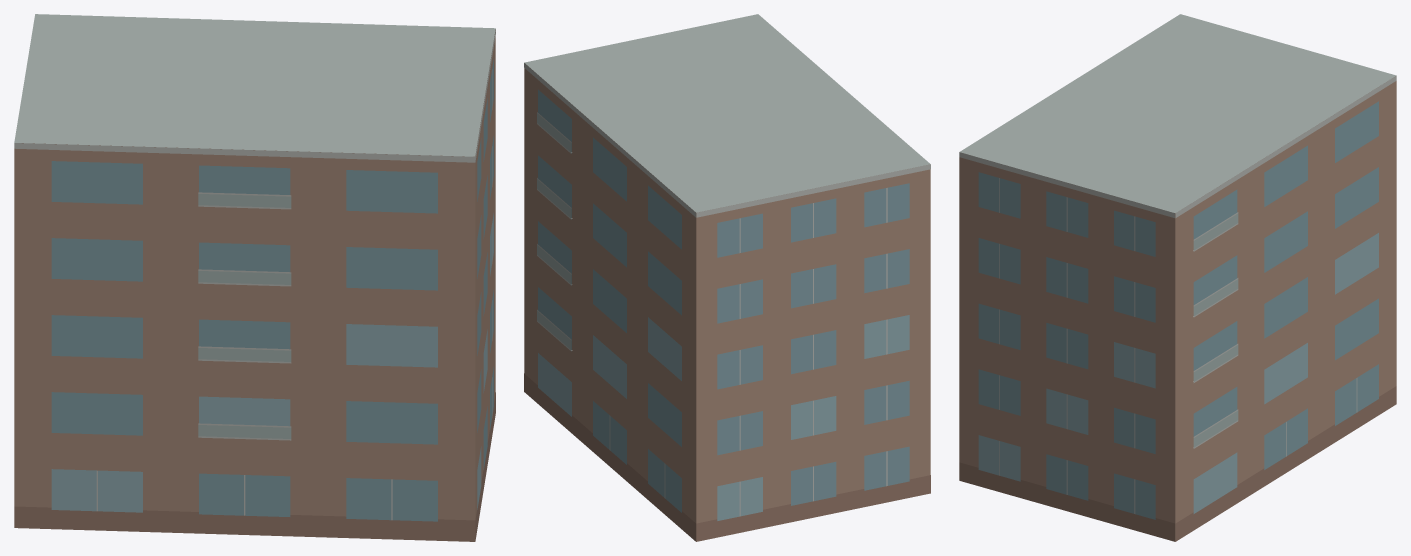
The model's file is survey-upis-32974322.glb.
The picture shows the model from 3 angles, left to right: view 1: azimuth 30°, elevation 25°; view 2: azimuth 150°, elevation 25°; view 3: azimuth 270°, elevation 25°; orthographic projection. The views are drawn at different scales.
Visible parts, largest first — view 1: survey-upis-32974322.tmp; view 2: survey-upis-32974322.tmp; view 3: survey-upis-32974322.tmp.
Boxes of the visible parts, left/top/right/bottom form: survey-upis-32974322.tmp: left=14, top=14, right=495, bottom=541; survey-upis-32974322.tmp: left=524, top=14, right=930, bottom=541; survey-upis-32974322.tmp: left=959, top=14, right=1396, bottom=541.
Size of the model in its own units: 20.56 by 15.8 by 19.07.
